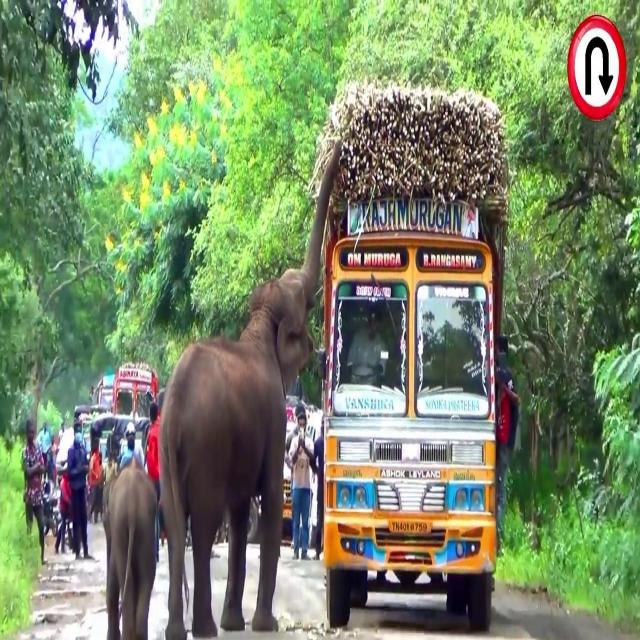Elephant: (158, 140, 342, 638)
